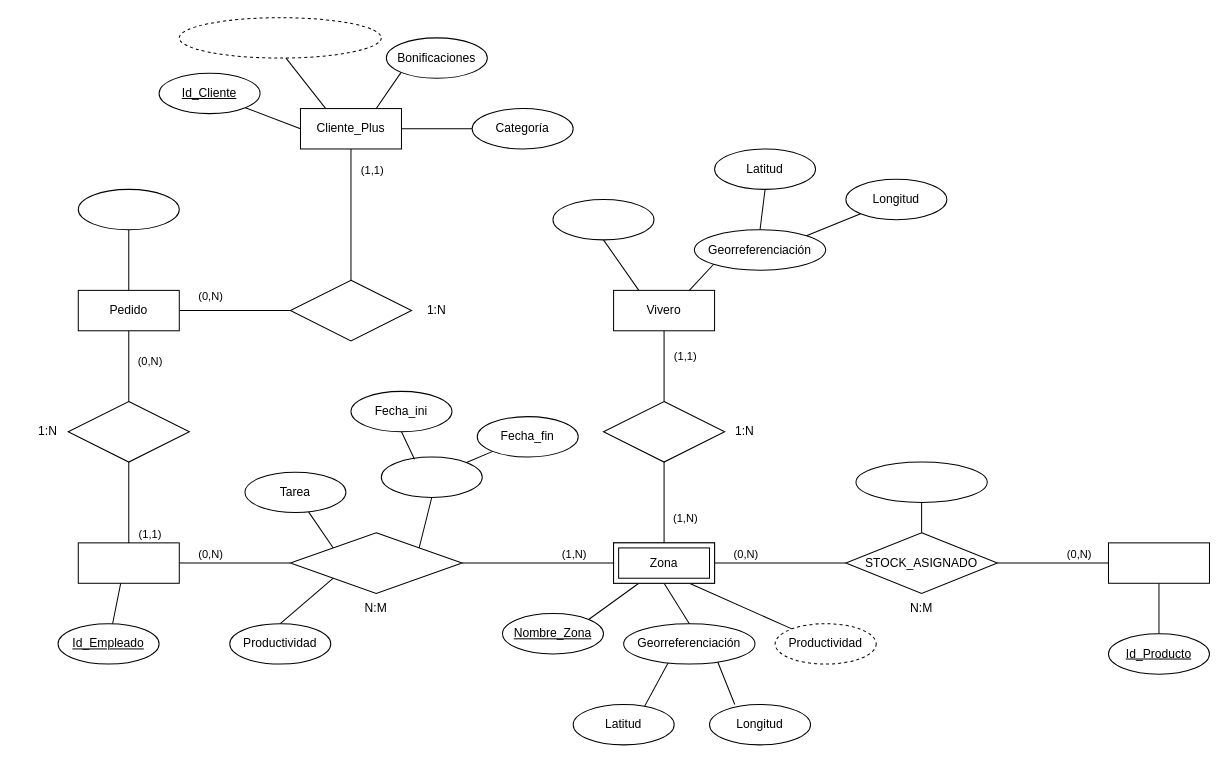
Some shapes in this 1227 by 764 pixel diagram are drawn without their labels. Each missing label, with the centre of its shape:
"Cantidad_disponible" goes at [921,481].
"Empleado" goes at [128,562].
"Fechas" goes at [431,476].
"GESTIONA" goes at [128,431].
"Id_Pedido" goes at [128,209].
"Id_Vivero" goes at [603,219].
"Producto" goes at [1158,562].
"REALIZA" goes at [350,310].
"SE_DIVIDE_EN" goes at [663,431].
"TRABAJA_EN" goes at [375,562].
"Volumen_compras_mensual" goes at [279,37].
